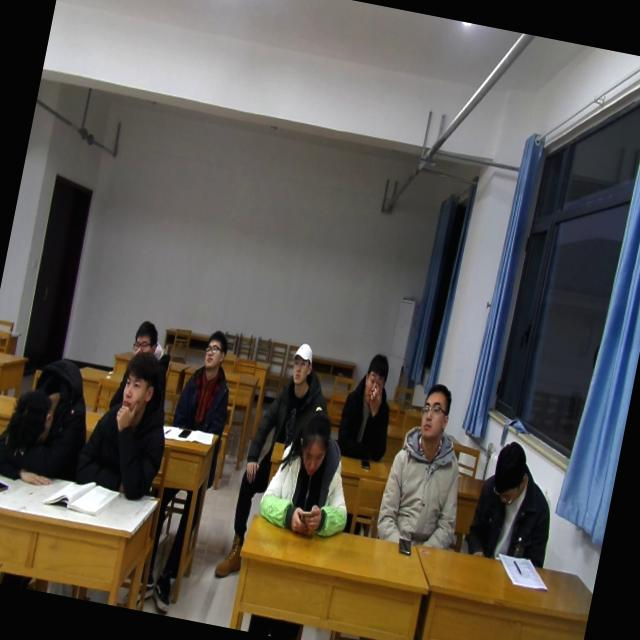bow: (0, 344, 102, 497)
down: (486, 433, 536, 508), (290, 407, 336, 483)
lookup: (114, 342, 164, 430), (411, 375, 458, 447), (354, 346, 395, 411), (282, 337, 316, 392), (125, 314, 163, 362), (197, 326, 232, 378)
sit: (372, 376, 486, 558), (68, 339, 182, 504), (254, 395, 369, 544), (465, 434, 567, 570), (331, 344, 406, 470), (167, 322, 246, 441), (256, 336, 332, 450), (124, 315, 178, 378)
